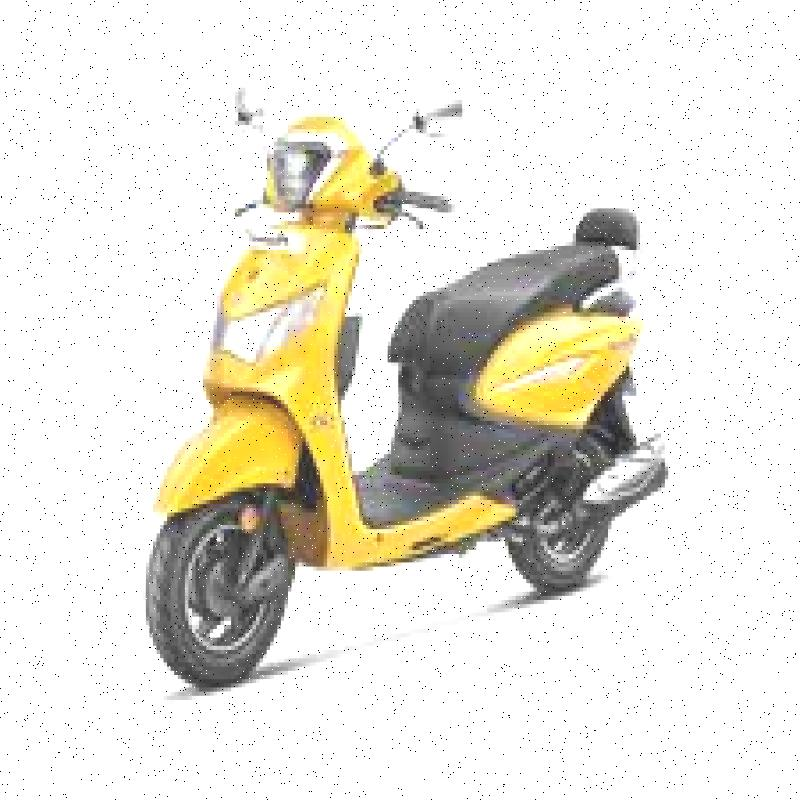bike: (109, 49, 687, 699)
